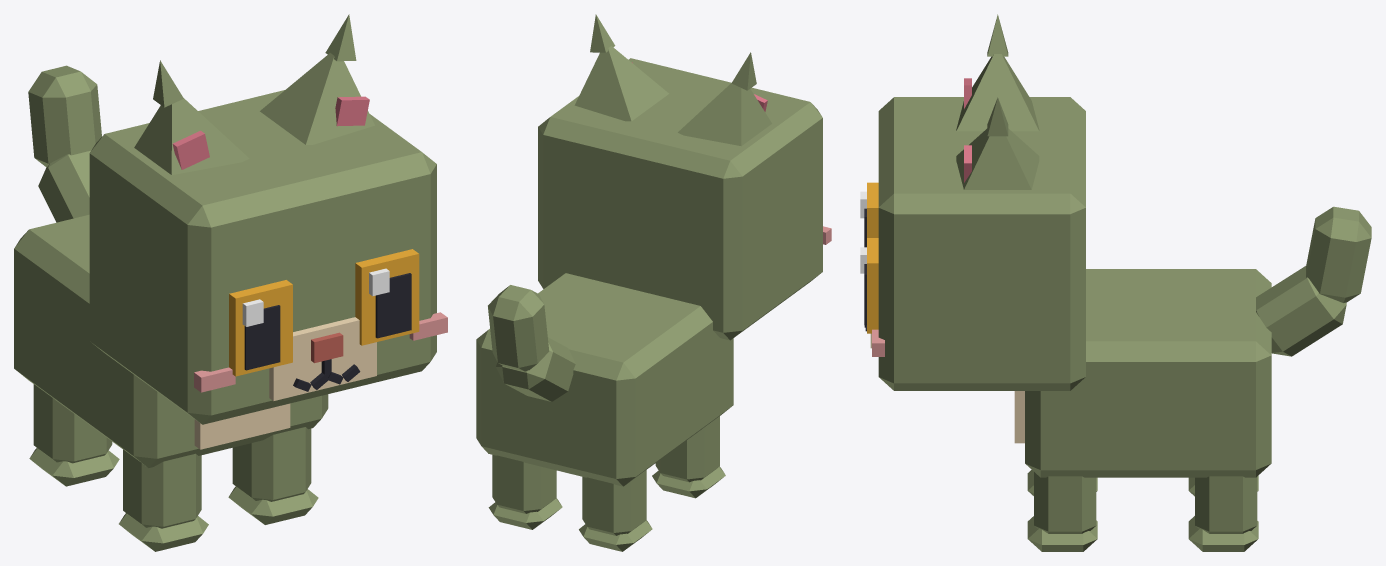
File: CatCafe_Cat_Moss.glb
3 views of the same model, side by side, from view 1: azimuth 30°, elevation 25°; view 2: azimuth 150°, elevation 25°; view 3: azimuth 270°, elevation 25° (orthographic). The views are drawn at different scales.
Parts seen in each view (by area): view 1: CatCafe_Cat_Moss_Head, CatCafe_Cat_Moss_Body, CatCafe_Cat_Moss_Tail, CatCafe_Cat_Moss_EarL, CatCafe_Cat_Moss_LegF2, CatCafe_Cat_Moss_LegF1, CatCafe_Cat_Moss_EarR, CatCafe_Cat_Moss_Eye2, CatCafe_Cat_Moss_Eye1, CatCafe_Cat_Moss_LegB2; view 2: CatCafe_Cat_Moss_Head, CatCafe_Cat_Moss_Body, CatCafe_Cat_Moss_Tail, CatCafe_Cat_Moss_EarL, CatCafe_Cat_Moss_LegB2, CatCafe_Cat_Moss_LegB1, CatCafe_Cat_Moss_EarR, CatCafe_Cat_Moss_LegF2; view 3: CatCafe_Cat_Moss_Head, CatCafe_Cat_Moss_Body, CatCafe_Cat_Moss_Tail, CatCafe_Cat_Moss_LegF1, CatCafe_Cat_Moss_LegB1, CatCafe_Cat_Moss_EarL, CatCafe_Cat_Moss_EarR, CatCafe_Cat_Moss_Eye1, CatCafe_Cat_Moss_Eye2.
Boxes of the visible parts, <box> form: CatCafe_Cat_Moss_Head: <box>89,90,447,424</box>; CatCafe_Cat_Moss_Body: <box>14,214,328,467</box>; CatCafe_Cat_Moss_Tail: <box>28,65,101,222</box>; CatCafe_Cat_Moss_EarL: <box>260,14,374,144</box>; CatCafe_Cat_Moss_LegF2: <box>119,449,208,551</box>; CatCafe_Cat_Moss_LegF1: <box>228,427,318,524</box>; CatCafe_Cat_Moss_EarR: <box>134,60,249,174</box>; CatCafe_Cat_Moss_Eye2: <box>229,280,292,376</box>; CatCafe_Cat_Moss_Eye1: <box>355,249,419,345</box>; CatCafe_Cat_Moss_LegB2: <box>29,384,119,486</box>; CatCafe_Cat_Moss_Head: <box>538,58,831,340</box>; CatCafe_Cat_Moss_Body: <box>476,273,733,486</box>; CatCafe_Cat_Moss_Tail: <box>488,285,575,401</box>; CatCafe_Cat_Moss_EarL: <box>574,14,668,121</box>; CatCafe_Cat_Moss_LegB2: <box>579,470,652,551</box>; CatCafe_Cat_Moss_LegB1: <box>488,455,562,529</box>; CatCafe_Cat_Moss_EarR: <box>678,52,771,146</box>; CatCafe_Cat_Moss_LegF2: <box>652,416,725,498</box>; CatCafe_Cat_Moss_Head: <box>864,97,1085,390</box>; CatCafe_Cat_Moss_Body: <box>1014,269,1271,477</box>; CatCafe_Cat_Moss_Tail: <box>1256,206,1371,356</box>; CatCafe_Cat_Moss_LegF1: <box>1027,472,1097,551</box>; CatCafe_Cat_Moss_LegB1: <box>1188,476,1258,551</box>; CatCafe_Cat_Moss_EarL: <box>956,97,1039,189</box>; CatCafe_Cat_Moss_EarR: <box>956,14,1039,131</box>; CatCafe_Cat_Moss_Eye1: <box>860,238,878,333</box>; CatCafe_Cat_Moss_Eye2: <box>860,182,878,247</box>.
Size of the model in its own units: 1 by 1.97 by 1.97.
Materials: 1 (1 with a texture image).
